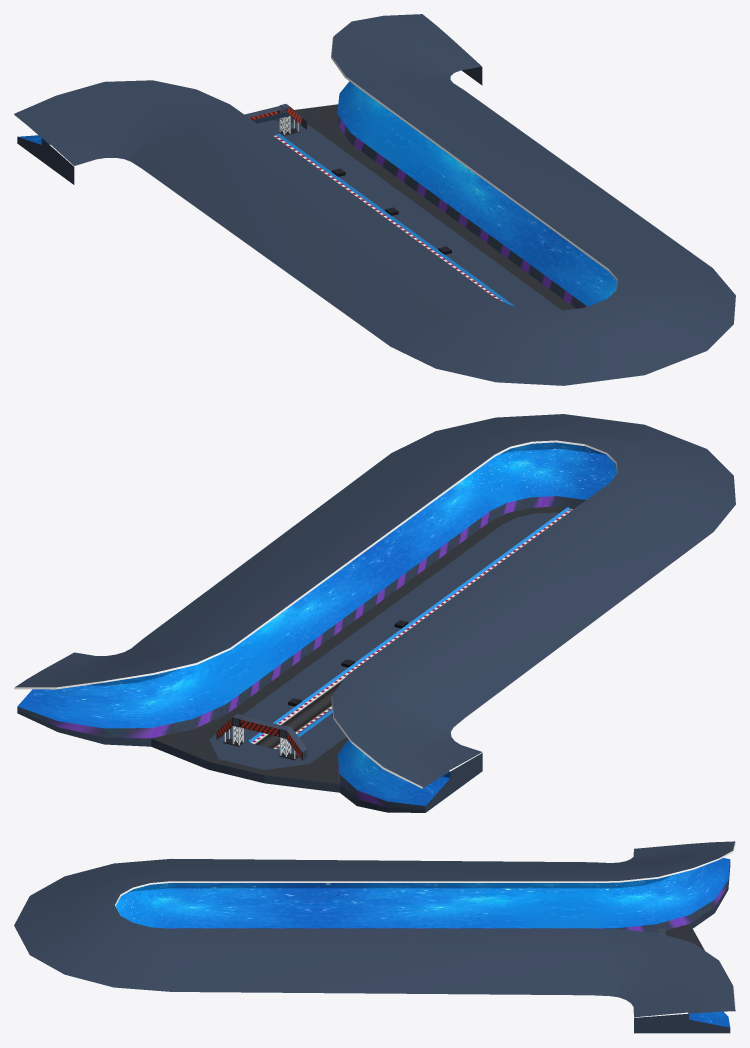
Rendered from Finish_1.FBX.
3 renders of one model, top to bottom at view 1: azimuth 30°, elevation 25°; view 2: azimuth 150°, elevation 25°; view 3: azimuth 270°, elevation 25°, orthographic. The views are drawn at different scales.
Visible parts, largest first — view 1: Finish_2, Finish_3, Finish_Road, Finish_1; view 2: Finish_2, Finish_3, Finish_Road, Finish_1; view 3: Finish_2, Finish_3.
Boxes of the visible parts, x1=… form: Finish_2: x1=14, y1=14, x2=735, y2=385; Finish_3: x1=17, y1=81, x2=616, y2=306; Finish_Road: x1=274, y1=133, x2=514, y2=305; Finish_1: x1=244, y1=104, x2=306, y2=134; Finish_2: x1=14, y1=414, x2=735, y2=812; Finish_3: x1=17, y1=442, x2=616, y2=805; Finish_Road: x1=247, y1=507, x2=572, y2=750; Finish_1: x1=216, y1=714, x2=307, y2=760; Finish_2: x1=14, y1=841, x2=735, y2=1033; Finish_3: x1=115, y1=858, x2=730, y2=1027.
Size of the model in its own units: 221 by 39.64 by 401.
